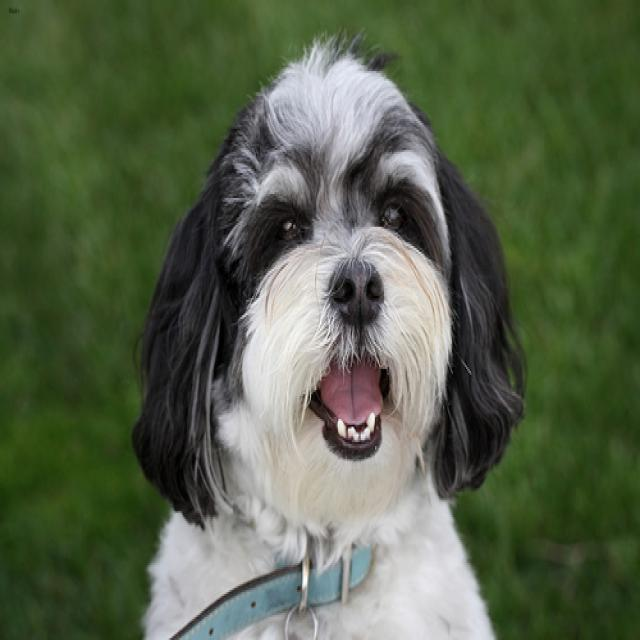dog-havanese: (125, 25, 535, 636)
